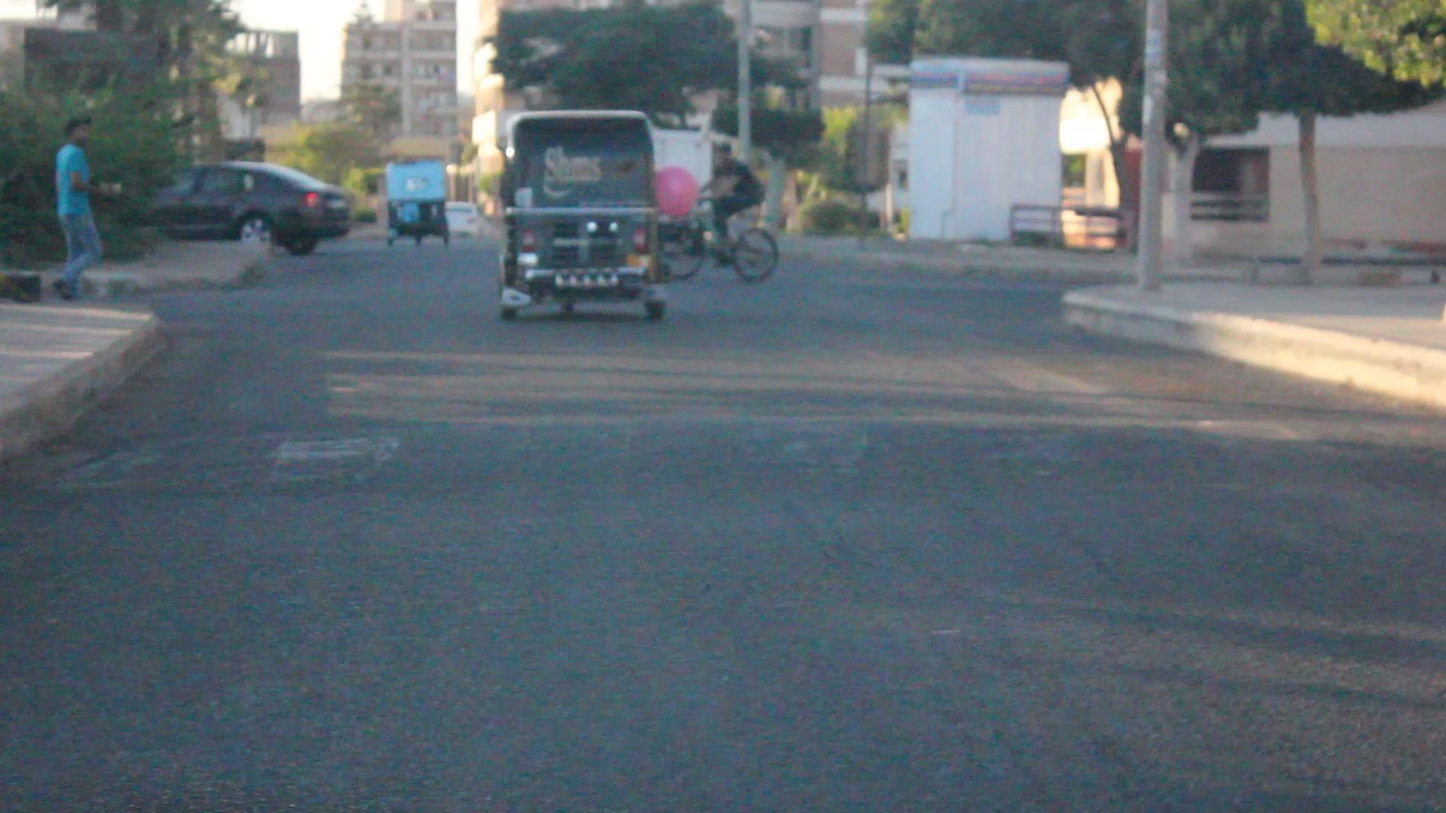Bump: (87, 412, 1446, 499)
